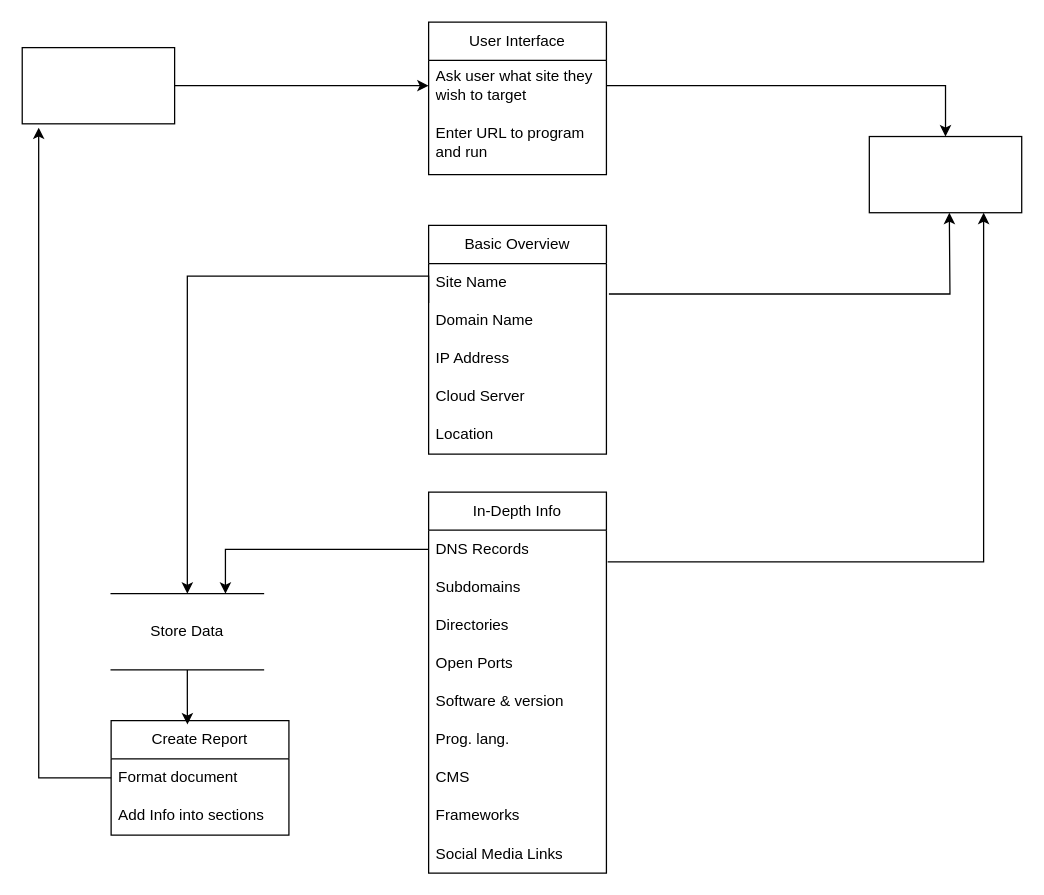
Some shapes in this 1044 by 895 pixel diagram are drawn without their labels. The shapes that lost their labels are listed below. From the top down, each one's centre as x and y in pixels, then its label:
point (98, 85): User
point (945, 174): Target
